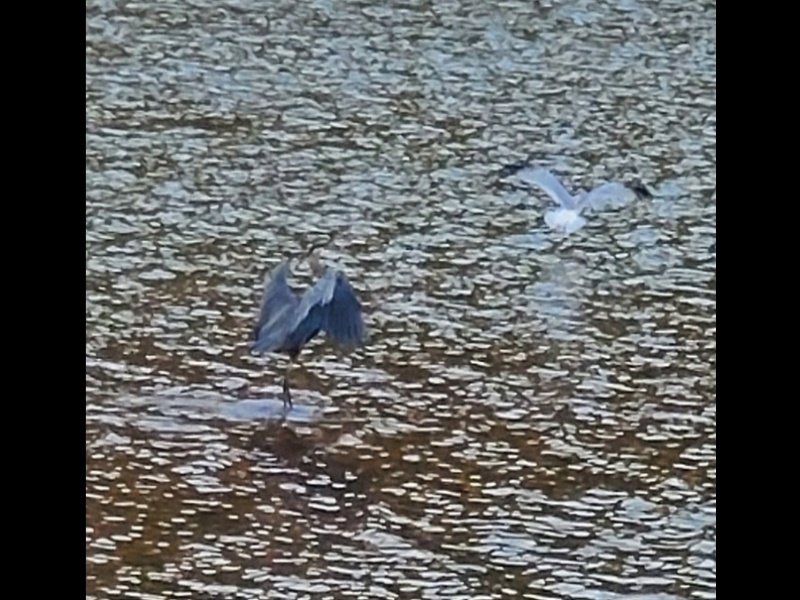heron: (246, 253, 368, 410)
